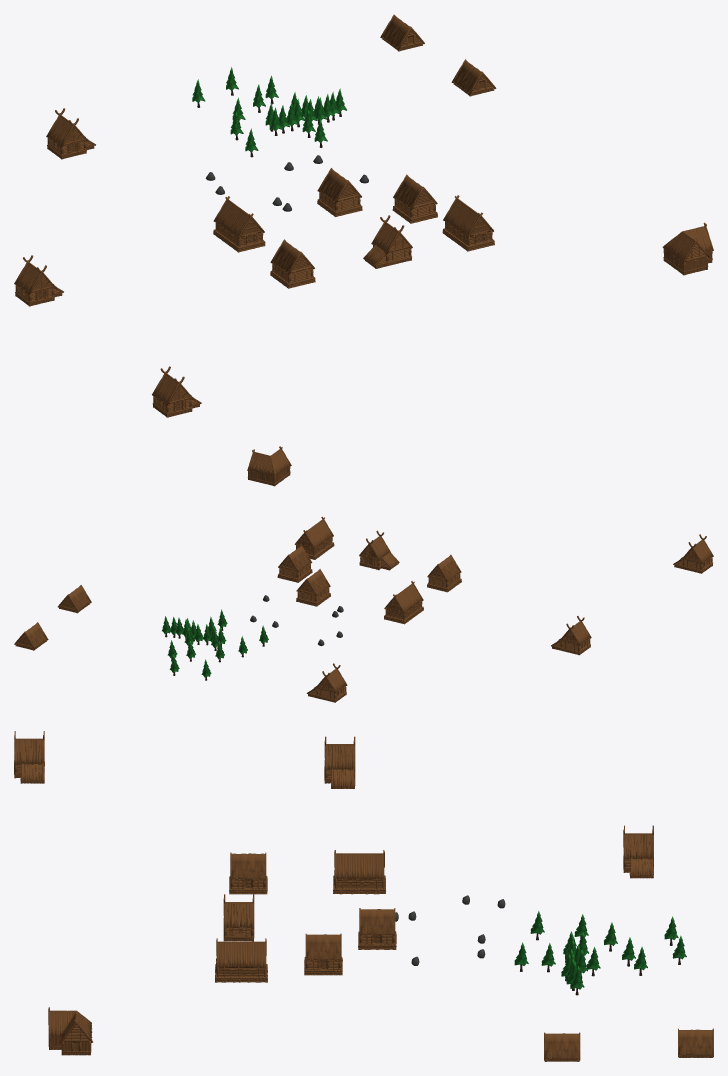
Rendered from MyMap.glb.
3 renders of one model, top to bottom at view 1: azimuth 30°, elevation 25°; view 2: azimuth 150°, elevation 25°; view 3: azimuth 270°, elevation 25°, orthographic. The views are drawn at different scales.
Parts seen in each view (by area): view 1: rpgpp_lt_building_05, rpgpp_lt_building_01.001, rpgpp_lt_building_01, rpgpp_lt_building_03.003, rpgpp_lt_building_04, rpgpp_lt_building_04.001, rpgpp_lt_building_04.002, rpgpp_lt_building_03.002, rpgpp_lt_building_03, rpgpp_lt_building_03.001, rpgpp_lt_building_02.001, rpgpp_lt_building_02; view 2: rpgpp_lt_building_05, rpgpp_lt_building_01, rpgpp_lt_building_01.001, rpgpp_lt_building_03.003, rpgpp_lt_building_04, rpgpp_lt_building_04.001, rpgpp_lt_building_04.002, rpgpp_lt_building_03.001, rpgpp_lt_building_03, rpgpp_lt_building_03.002, rpgpp_lt_building_02.001, rpgpp_lt_building_02; view 3: rpgpp_lt_building_01.001, rpgpp_lt_building_01, rpgpp_lt_building_05, rpgpp_lt_building_04.002, rpgpp_lt_building_04, rpgpp_lt_building_04.001, rpgpp_lt_building_03.001, rpgpp_lt_building_03.002, rpgpp_lt_building_03, rpgpp_lt_building_03.003, rpgpp_lt_building_02, rpgpp_lt_building_02.001.
Boxes of the visible parts, x1=… form: rpgpp_lt_building_05: x1=662, y1=222, x2=713, y2=275; rpgpp_lt_building_01.001: x1=442, y1=195, x2=494, y2=251; rpgpp_lt_building_01: x1=213, y1=196, x2=265, y2=252; rpgpp_lt_building_03.003: x1=363, y1=215, x2=412, y2=268; rpgpp_lt_building_04: x1=270, y1=239, x2=315, y2=288; rpgpp_lt_building_04.001: x1=317, y1=168, x2=362, y2=216; rpgpp_lt_building_04.002: x1=392, y1=174, x2=437, y2=223; rpgpp_lt_building_03.002: x1=152, y1=366, x2=201, y2=417; rpgpp_lt_building_03: x1=46, y1=108, x2=95, y2=159; rpgpp_lt_building_03.001: x1=14, y1=255, x2=63, y2=306; rpgpp_lt_building_02.001: x1=380, y1=14, x2=424, y2=51; rpgpp_lt_building_02: x1=451, y1=59, x2=496, y2=96; rpgpp_lt_building_05: x1=247, y1=446, x2=291, y2=486; rpgpp_lt_building_01: x1=384, y1=581, x2=423, y2=624; rpgpp_lt_building_01.001: x1=294, y1=516, x2=334, y2=559; rpgpp_lt_building_03.003: x1=359, y1=530, x2=399, y2=570; rpgpp_lt_building_04: x1=427, y1=554, x2=461, y2=592; rpgpp_lt_building_04.001: x1=296, y1=569, x2=330, y2=606; rpgpp_lt_building_04.002: x1=277, y1=545, x2=312, y2=582; rpgpp_lt_building_03.001: x1=551, y1=616, x2=591, y2=655; rpgpp_lt_building_03: x1=306, y1=663, x2=347, y2=702; rpgpp_lt_building_03.002: x1=673, y1=534, x2=713, y2=573; rpgpp_lt_building_02.001: x1=14, y1=622, x2=48, y2=650; rpgpp_lt_building_02: x1=57, y1=585, x2=91, y2=613; rpgpp_lt_building_01.001: x1=215, y1=938, x2=267, y2=982; rpgpp_lt_building_01: x1=333, y1=850, x2=385, y2=894; rpgpp_lt_building_05: x1=48, y1=1007, x2=92, y2=1055; rpgpp_lt_building_04.002: x1=304, y1=933, x2=342, y2=975; rpgpp_lt_building_04: x1=229, y1=852, x2=267, y2=894; rpgpp_lt_building_04.001: x1=358, y1=908, x2=396, y2=949; rpgpp_lt_building_03.001: x1=324, y1=736, x2=355, y2=788; rpgpp_lt_building_03.002: x1=14, y1=731, x2=44, y2=783; rpgpp_lt_building_03: x1=623, y1=825, x2=653, y2=878; rpgpp_lt_building_03.003: x1=223, y1=894, x2=254, y2=941; rpgpp_lt_building_02: x1=544, y1=1032, x2=580, y2=1061; rpgpp_lt_building_02.001: x1=678, y1=1028, x2=713, y2=1057.
Size of what is drawn, in the model's own units: 177 by 11.69 by 176.
